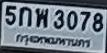letters: (34, 7, 50, 29), (18, 6, 33, 28), (4, 5, 17, 27), (79, 10, 92, 32), (92, 12, 105, 34), (66, 10, 79, 31), (53, 9, 65, 31)
province: (15, 32, 91, 50)
